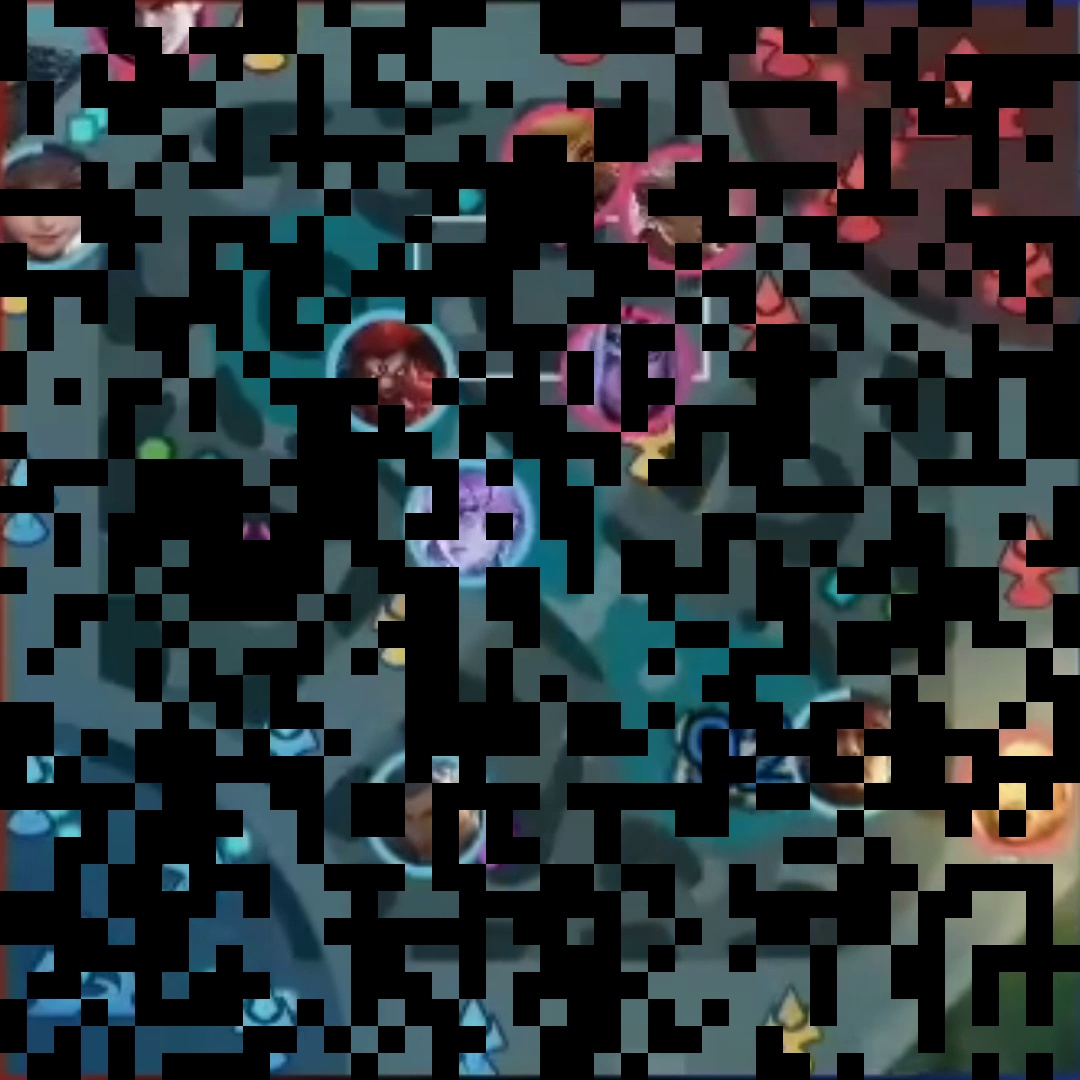Chou: (636, 161, 727, 259)
Claude: (113, 2, 197, 61)
Fanny: (521, 116, 606, 221)
Fredrinn: (382, 767, 469, 865)
Lapu-Lapu: (811, 706, 896, 803)
Masha: (980, 751, 1054, 836)
Minotaur: (347, 331, 434, 420)
Novaria: (421, 479, 515, 564)
Valentina: (573, 322, 671, 424)
Wanwan: (9, 161, 90, 253)
